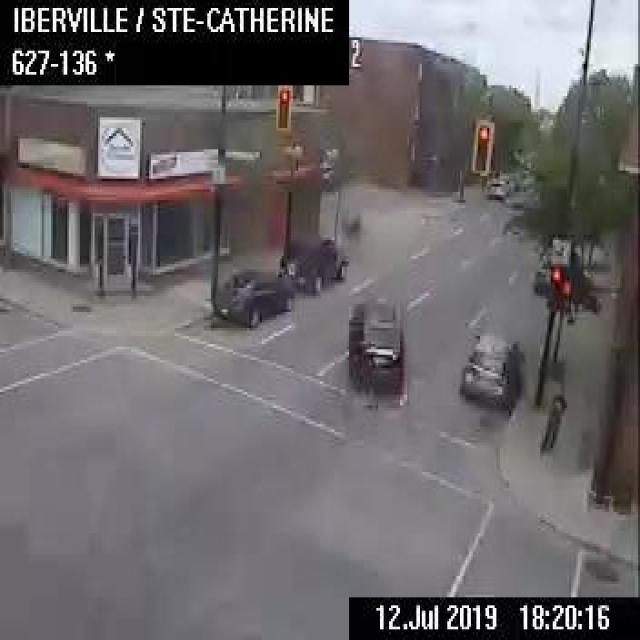pedestrian: (539, 388, 566, 454)
vehicle: (342, 291, 405, 392), (454, 328, 524, 411), (213, 264, 292, 330), (275, 232, 347, 292), (483, 176, 506, 199)
